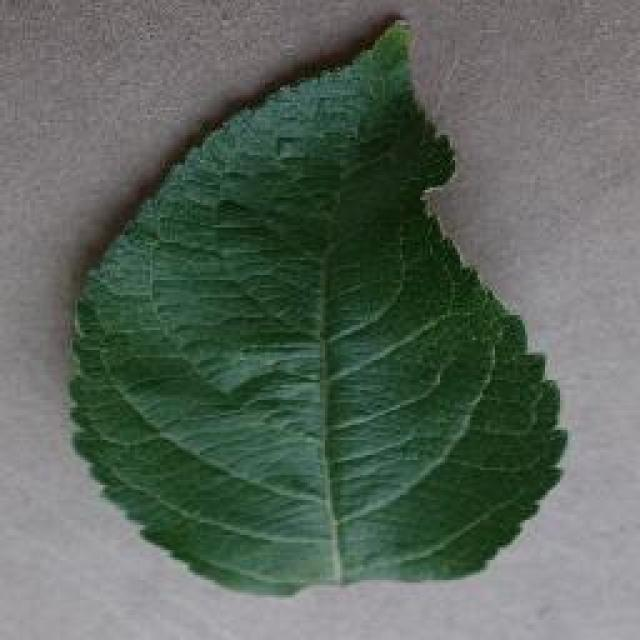apple healthy: (65, 12, 567, 598)
